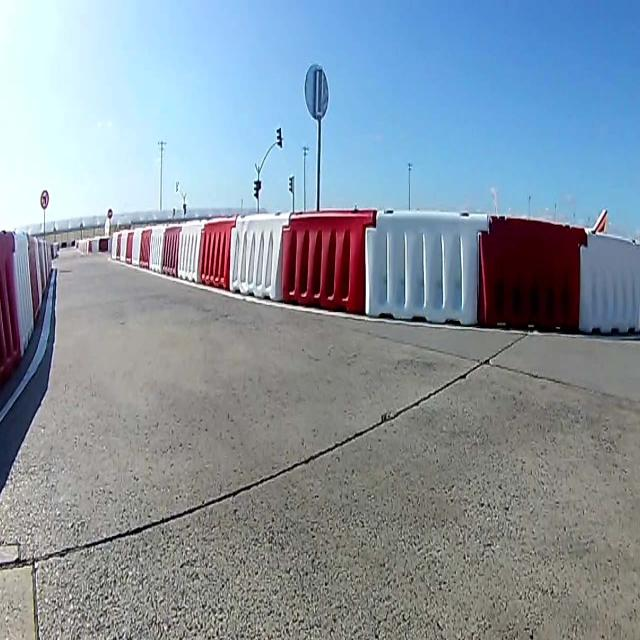soladonulmez: (40, 187, 50, 209)
